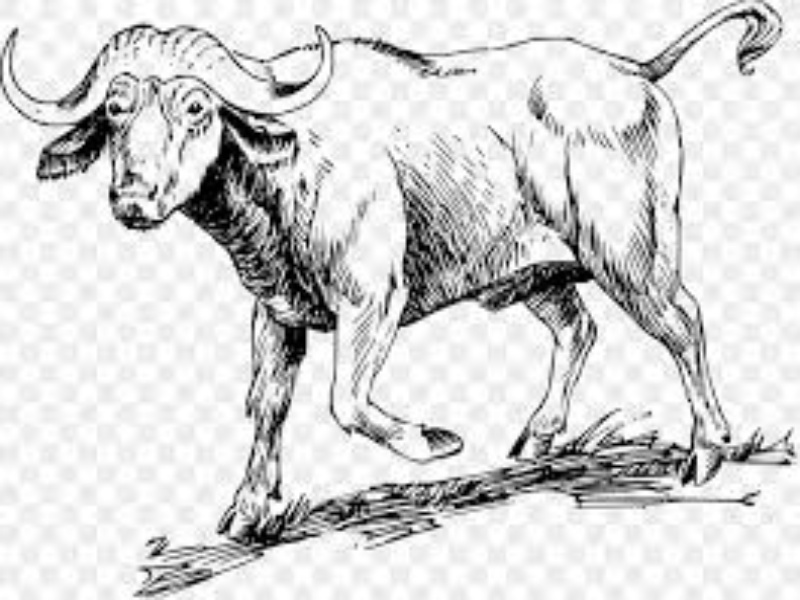buffalo: (3, 14, 781, 508)
